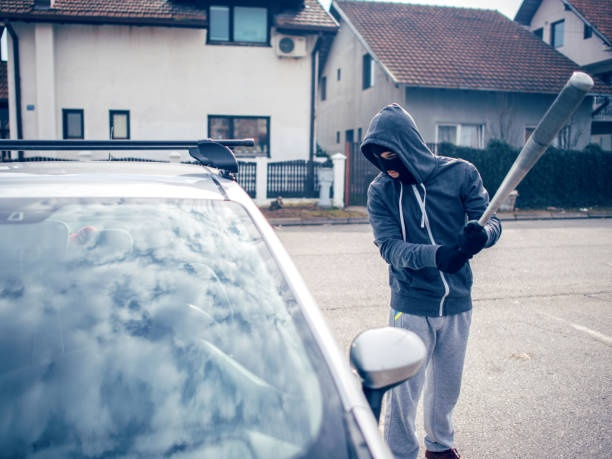bita: (479, 67, 590, 228)
